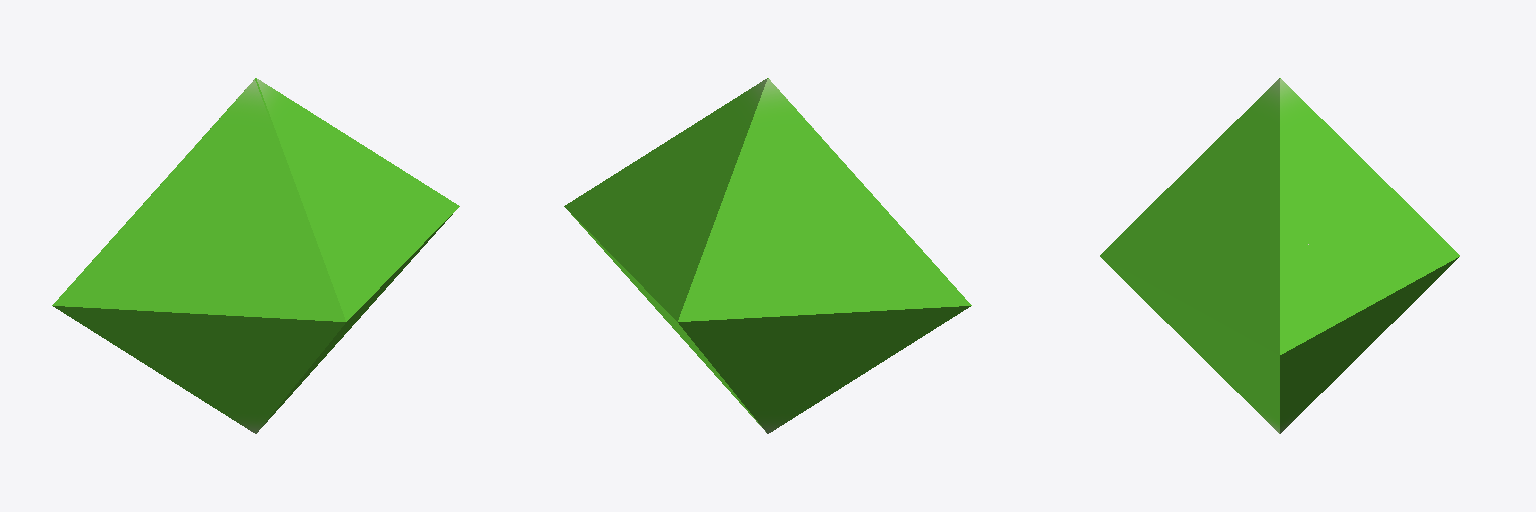
3 views of the same model, side by side, from view 1: azimuth 30°, elevation 25°; view 2: azimuth 150°, elevation 25°; view 3: azimuth 270°, elevation 25° (orthographic).
Visible parts, largest first — view 1: 頭_立方体.009; view 2: 頭_立方体.009; view 3: 頭_立方体.009.
Part boxes in pixels (x1,y1,x2,y2): 頭_立方体.009: (52, 78, 459, 433); 頭_立方体.009: (564, 78, 971, 433); 頭_立方体.009: (1100, 78, 1459, 433).
Bounding box in the file's own units: 1.58 × 1.32 × 1.21.
1 materials, 1 textured.